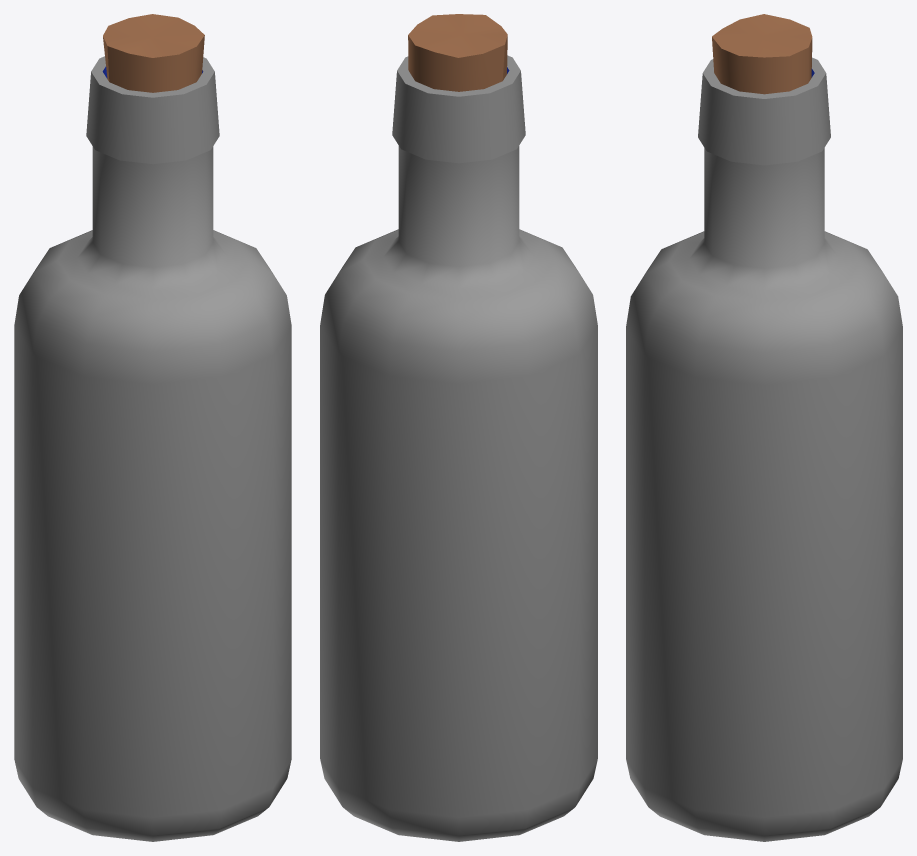
File: Bottle01.FBX
The picture shows the model from 3 angles, left to right: view 1: azimuth 30°, elevation 25°; view 2: azimuth 150°, elevation 25°; view 3: azimuth 270°, elevation 25°; orthographic projection.
Visible parts, largest first — view 1: Bottle01; view 2: Bottle01; view 3: Bottle01.
Part boxes in pixels (box(x1,y1,x2,y2)): Bottle01: box(14, 14, 291, 841); Bottle01: box(320, 14, 597, 841); Bottle01: box(626, 14, 902, 841).
Bounding box in the file's own units: 2.76 × 8.33 × 2.76.
